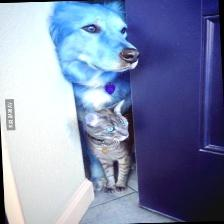kedo: (86, 100, 129, 193)
